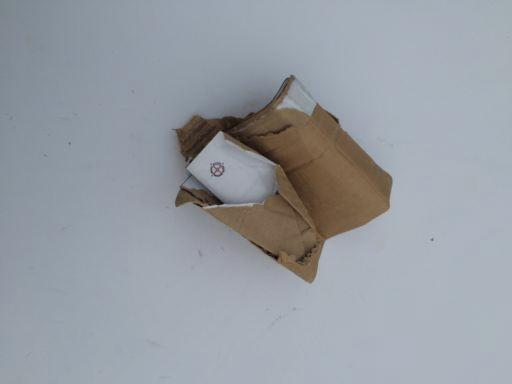cardboard: (173, 75, 394, 283)
